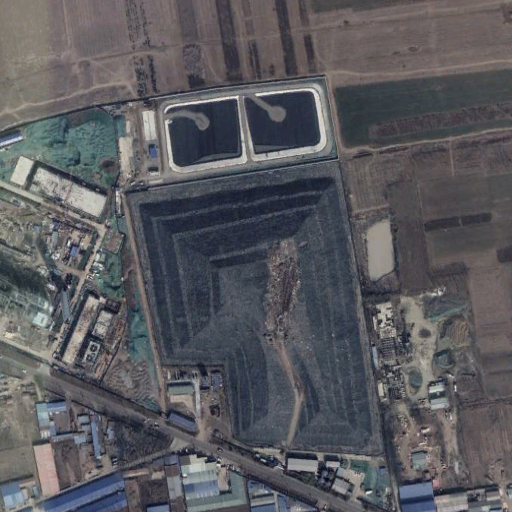lf: (128, 158, 387, 456)
